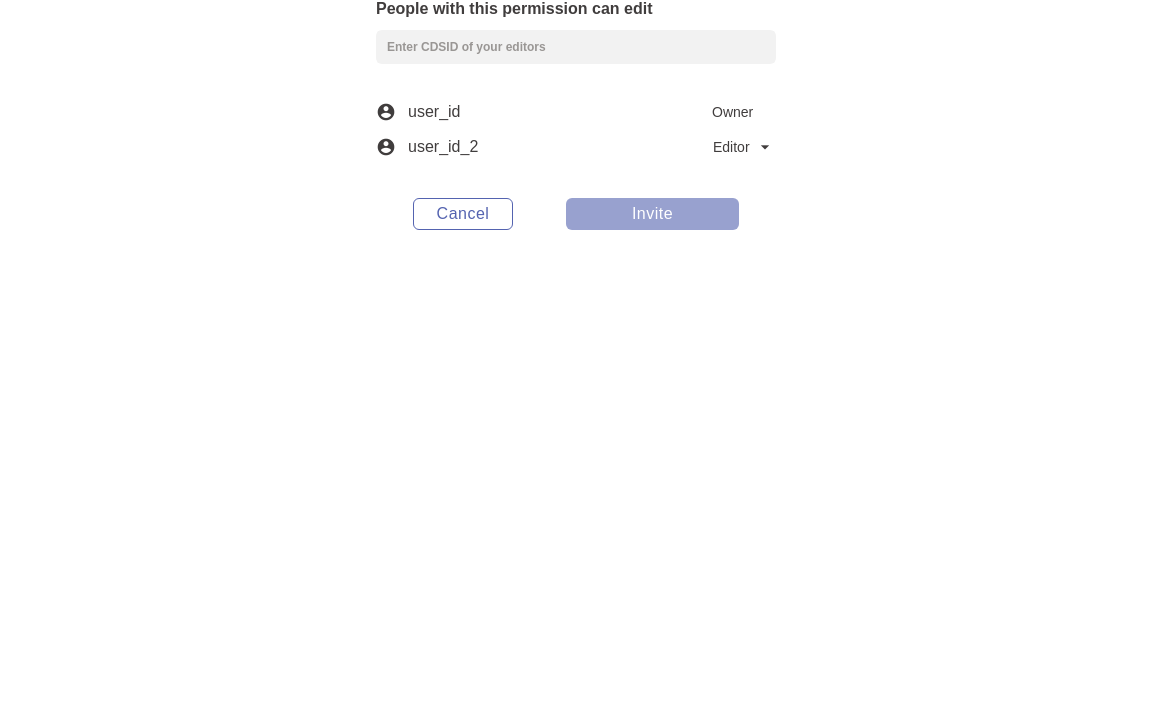
Test: Invite Editors Form › Feature toggle enabled › should show a confirmation modal when removing self
This screenshot has width=1152, height=720.
Press ArrowDown in the text "Editor", box [713, 139, 750, 155]
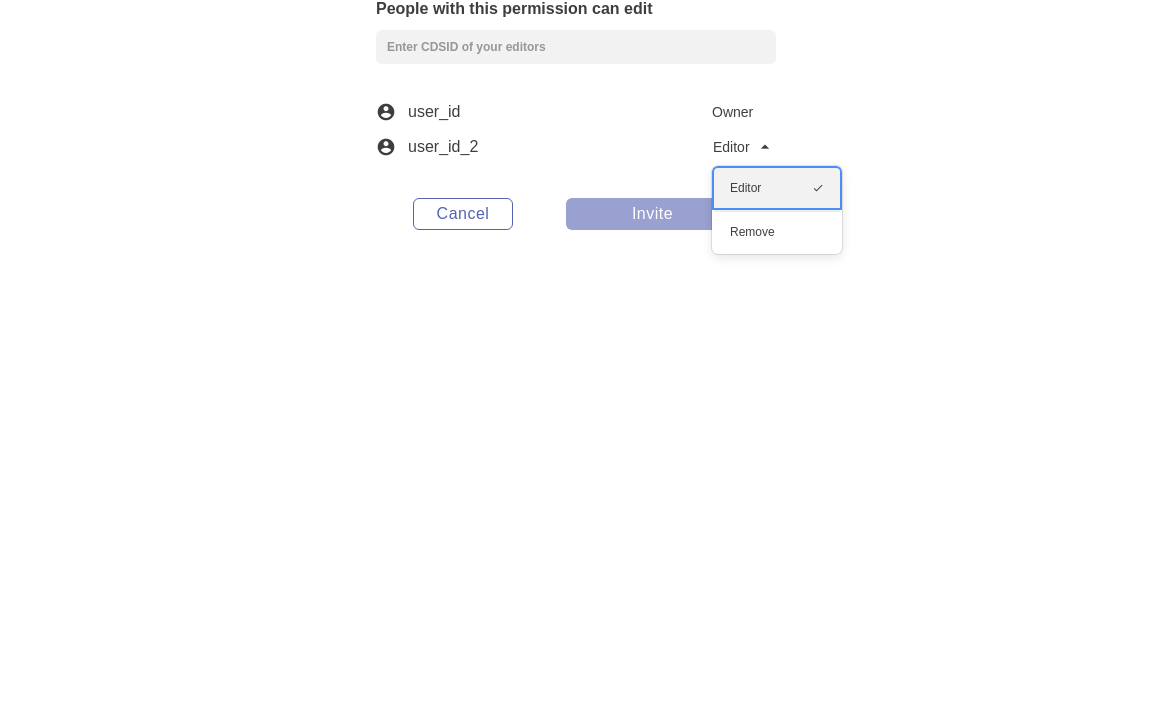
Click the text "Remove": [752, 232] box [730, 225, 775, 239]
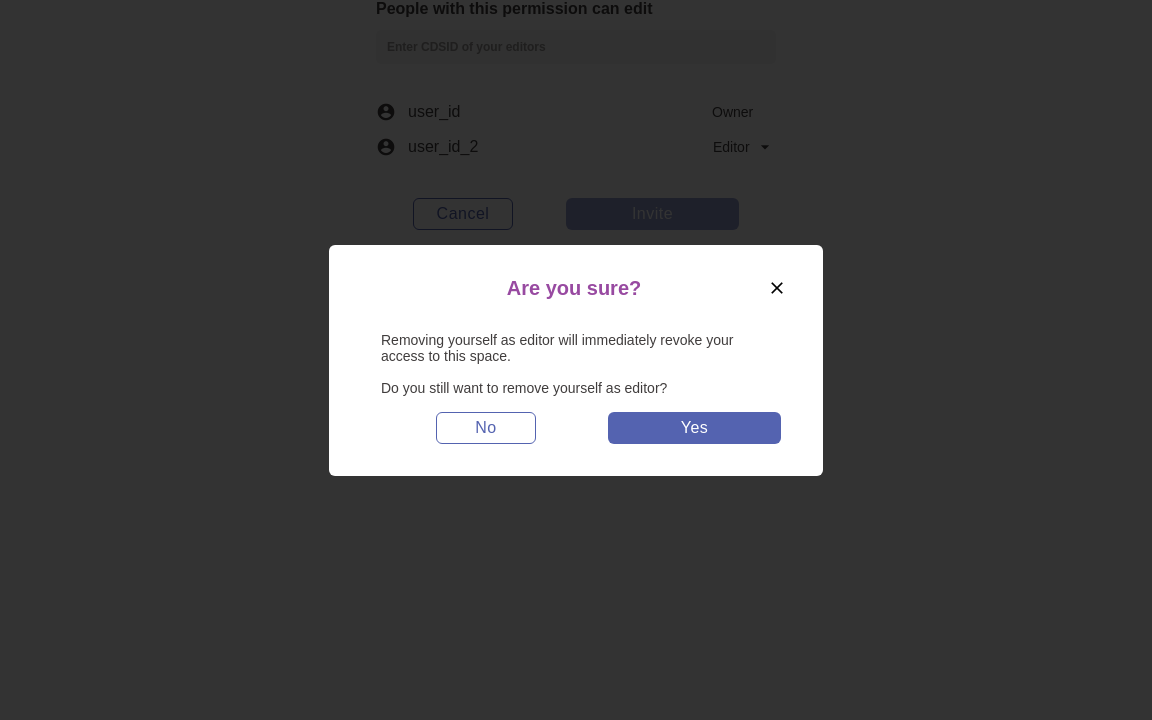
Now the heading "Are you sure?" is shown, box [507, 276, 641, 298]
Click the button with test id "confirmDeleteButton": [694, 428] box [608, 412, 781, 444]
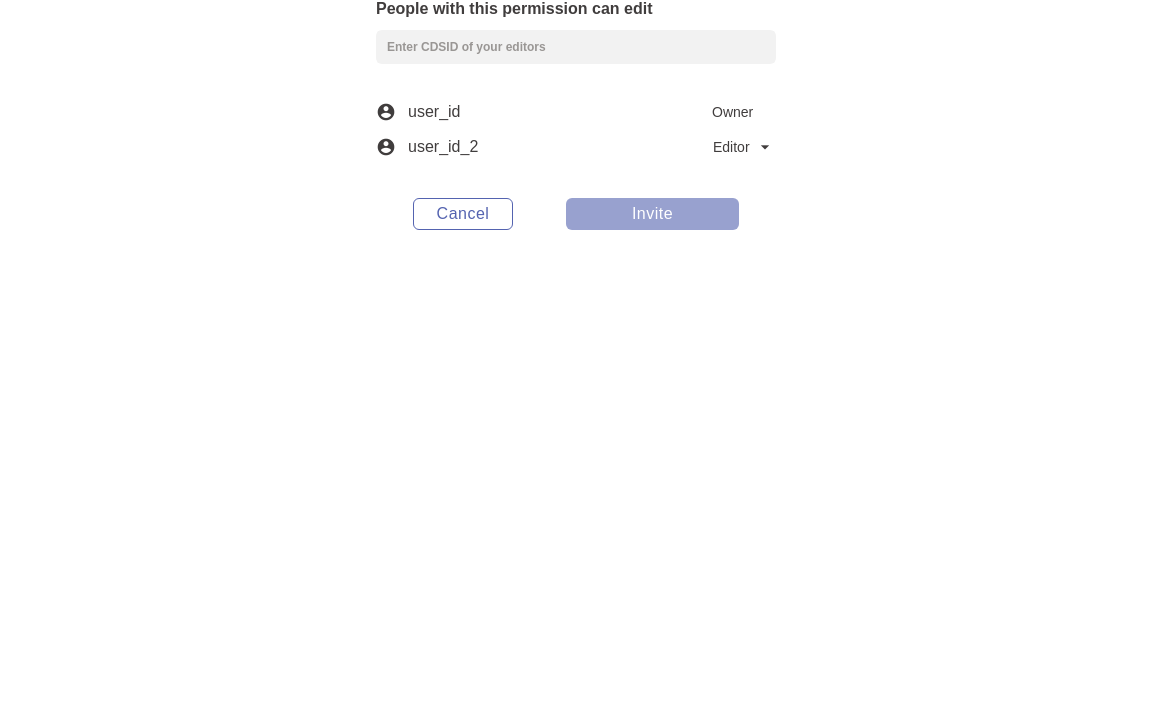
Now the heading "Are you sure?" is gone
